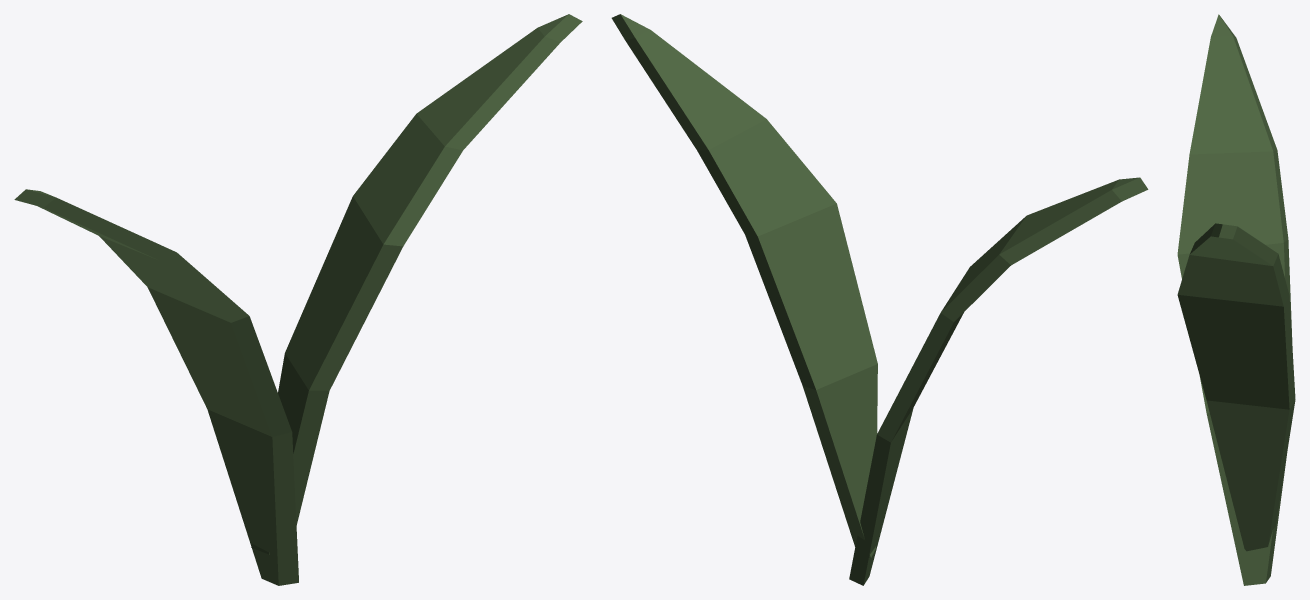
The model's file is flower-1.glb.
The picture shows the model from 3 angles, left to right: view 1: azimuth 30°, elevation 25°; view 2: azimuth 150°, elevation 25°; view 3: azimuth 270°, elevation 25°; orthographic projection. The views are drawn at different scales.
Parts seen in each view (by area): view 1: Flower_1; view 2: Flower_1; view 3: Flower_1.
Part boxes in pixels (box(x1,y1,x2,y2)): Flower_1: box(14, 14, 582, 585); Flower_1: box(611, 14, 1148, 585); Flower_1: box(1177, 14, 1295, 585).
Size of the model in its own units: 0.1267 by 0.1099 by 0.0245.
